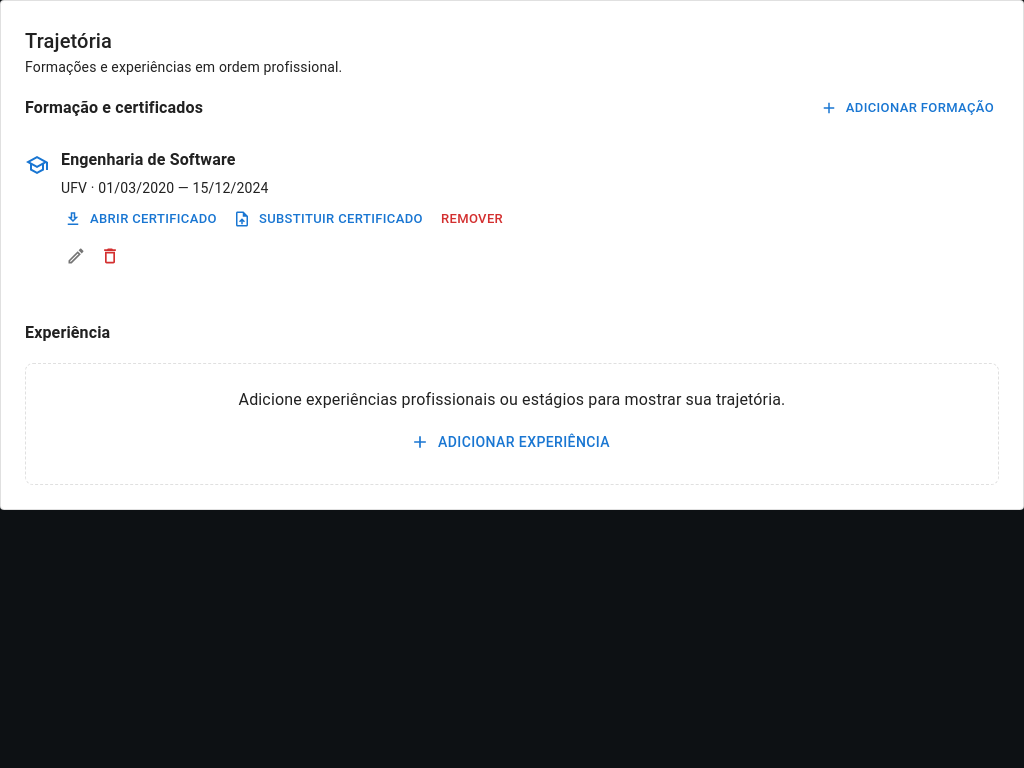
Scenario: TrajetoriaSection certificate › asks for confirmation before removing the certificate and keeps it on cancel
The width and height of the screenshot is (1024, 768).
Check: the heading "Formação e certificados" is shown, box [25, 94, 203, 122]
Click the button "Remover" at (472, 219), box [436, 204, 508, 235]
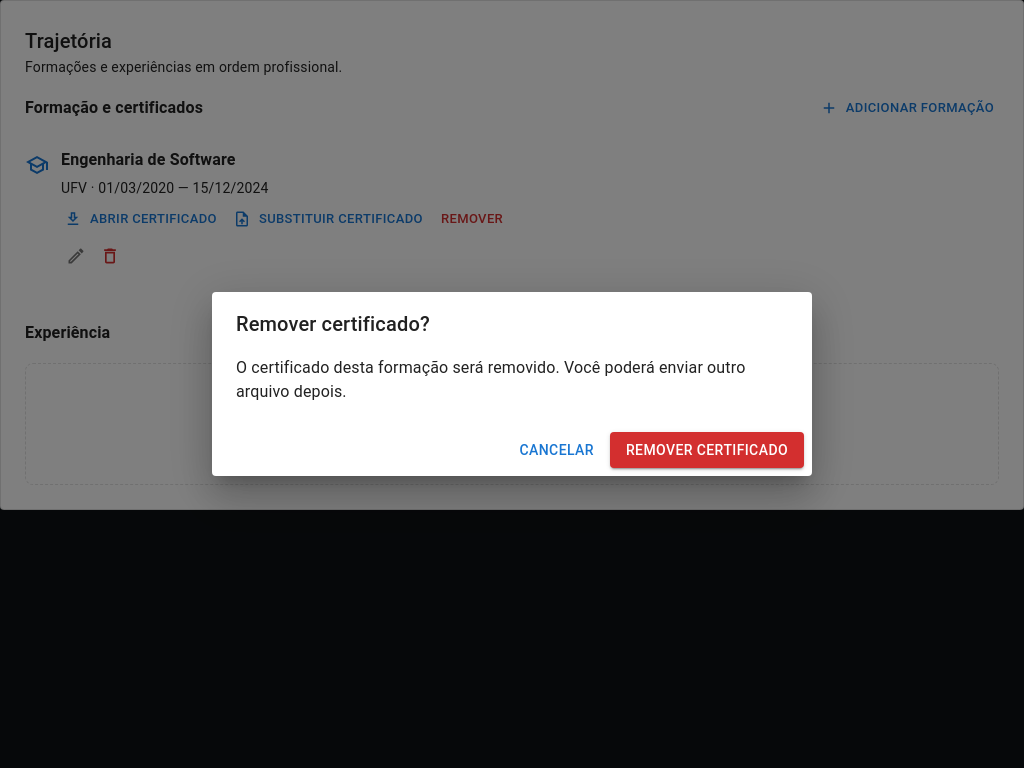
Click the button "Cancelar" at (557, 450), box [512, 432, 602, 468]
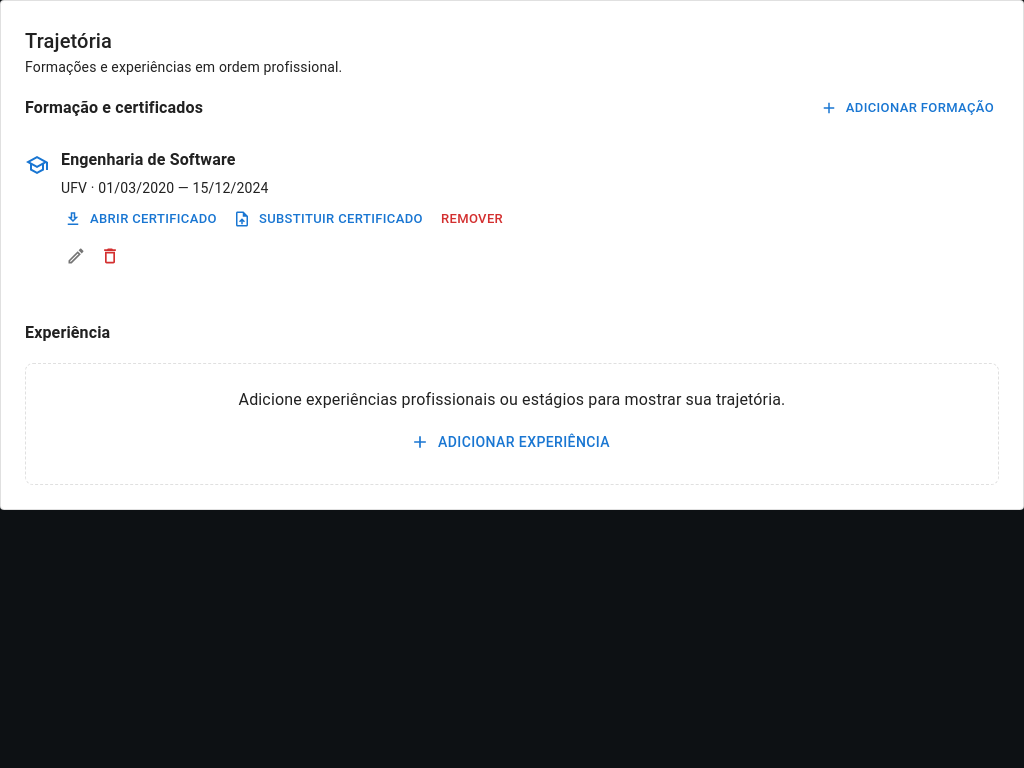
Check: the dialog is gone
